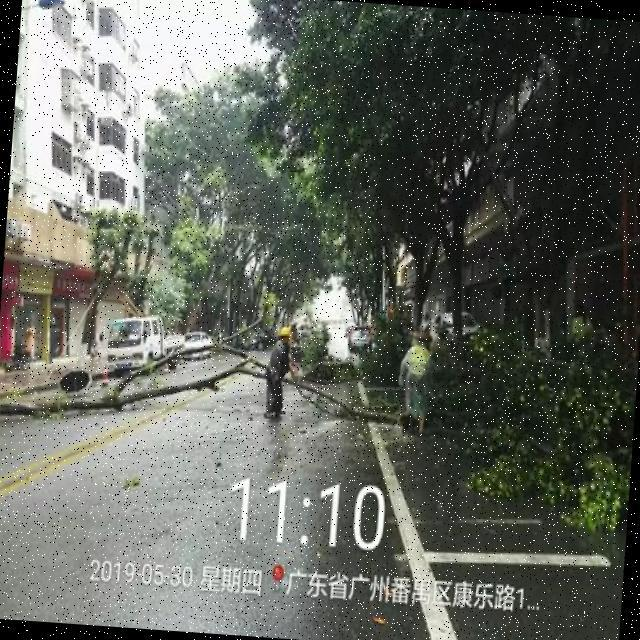fallen_object: (0, 292, 412, 446)
